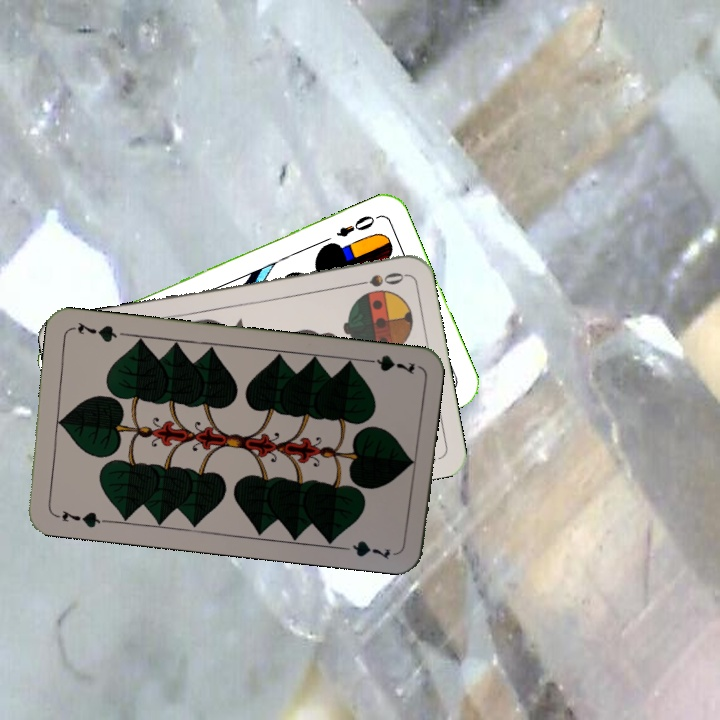EO: (332, 211, 382, 240)
G7: (359, 351, 418, 377), (50, 506, 109, 531)
SO: (348, 268, 407, 290)
